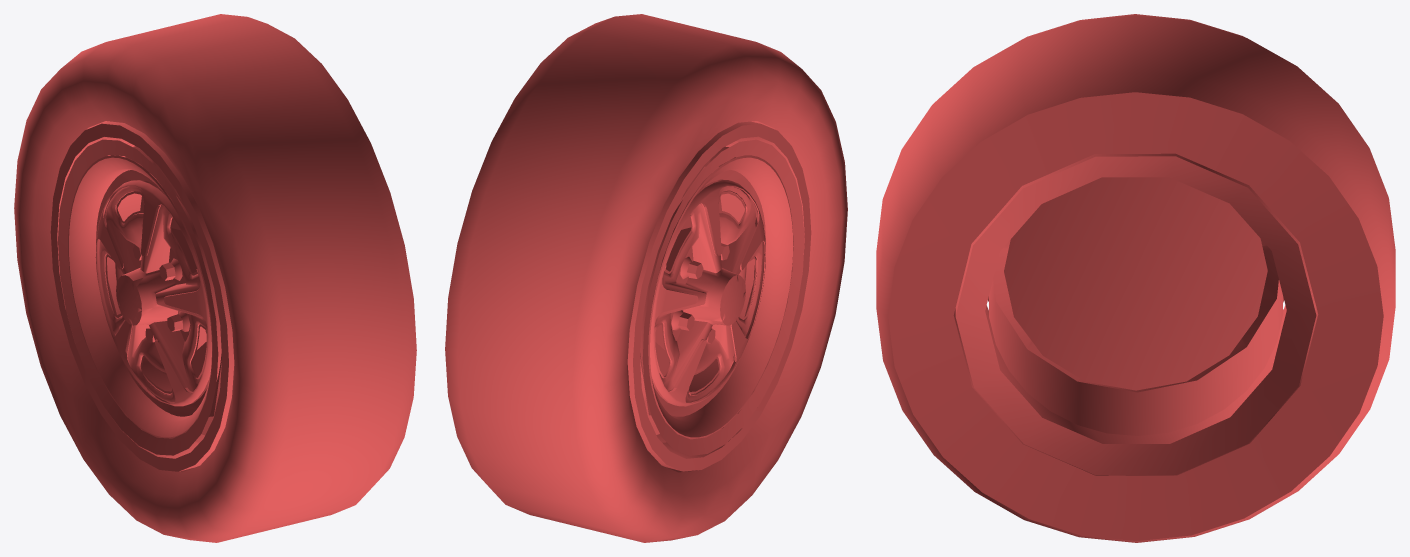
Rendered from Llanta_DD.obj.
3 renders of one model, left to right at view 1: azimuth 30°, elevation 25°; view 2: azimuth 150°, elevation 25°; view 3: azimuth 270°, elevation 25°, orthographic.
Parts seen in each view (by area): view 1: wheel_pivot; view 2: wheel_pivot; view 3: wheel_pivot.
Boxes of the visible parts, box(x1,y1,x2,y2) form: wheel_pivot: box(14, 14, 416, 542); wheel_pivot: box(445, 14, 847, 542); wheel_pivot: box(876, 14, 1395, 542).
Bounding box in the file's own units: 2.31 × 6.14 × 6.14.
